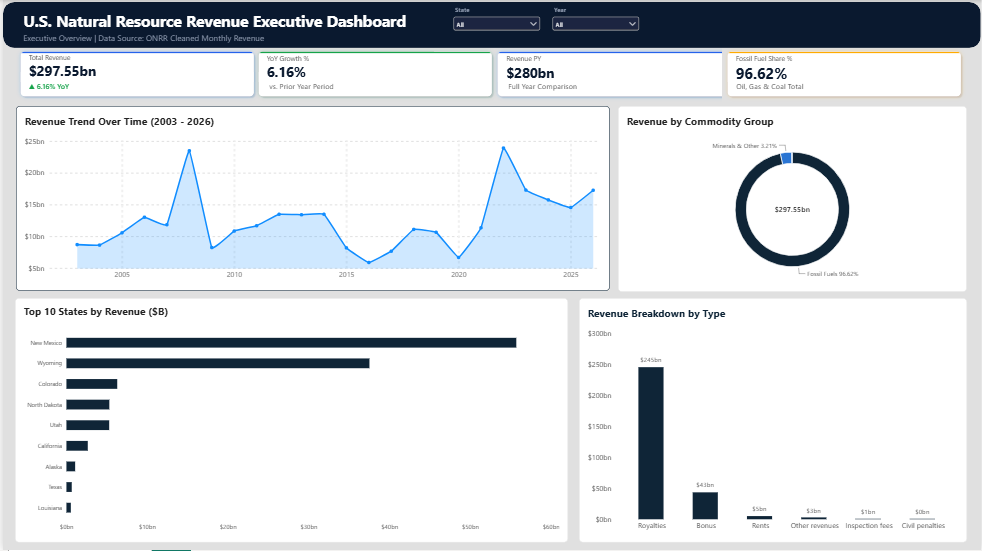

Layout of this report page (visuals, bound fields, positions):
{"tool":"powerbi","page":{"name":"Revenue Summary","canvas":[1920,1080],"ordinal":0},"visuals":[{"type":"cardVisual","fields":{"Data":["_Measures.Total Revenue"]},"box":[23.6,90.3,480,110],"z":0},{"type":"lineChart","title":"Revenue Trend Over Time (2003 - 2026)","fields":{"Category":["Dim_Date.Year"],"Y":["_Measures.Total Revenue"]},"box":[25.5,208.1,1166.4,363.3],"z":1000},{"type":"donutChart","title":"Revenue by Commodity Group","fields":{"Category":["cleaned_monthly_revenue.Commodity_Group"],"Y":["_Measures.Total Revenue"]},"box":[1207.6,208.1,684.7,365],"z":2000},{"type":"clusteredBarChart","title":"Top 10 States by Revenue ($B)","fields":{"Category":["cleaned_monthly_revenue.State"],"Y":["_Measures.Total Revenue"]},"box":[23.6,585.2,1086.5,479.5],"z":3000},{"type":"clusteredColumnChart","title":"Revenue Breakdown by Type","fields":{"Category":["cleaned_monthly_revenue.Revenue Type"],"Y":["_Measures.Total Revenue"]},"box":[1131.1,585.2,762.5,479.5],"z":4000},{"type":"cardVisual","fields":{"Data":["_Measures.YoY Growth %"]},"box":[490.9,90.3,480,110],"z":5000},{"type":"cardVisual","fields":{"Data":["_Measures.Revenue PY"]},"box":[960.2,90.3,480,110],"z":6000},{"type":"cardVisual","fields":{"Data":["_Measures.Fossil Fuel Share %"]},"box":[1411.9,90.3,480,110],"z":7000},{"type":"shape","title":"U.S. Natural Resource Revenue Executive Dashboard","box":[0,3.9,1920,90.3],"z":8000},{"type":"aiNarratives","title":"U.S. Natural Resource Revenue Executive Dashboard","box":[23.6,5.9,1820.3,80.5],"z":9000},{"type":"aiNarratives","box":[506.6,145.3,479.1,35.3],"z":10000},{"type":"aiNarratives","box":[975.9,145.3,481.1,35.3],"z":11000},{"type":"aiNarratives","box":[1423.6,145.3,481.1,35.3],"z":12000},{"type":"slicer","fields":{"Values":["cleaned_monthly_revenue.State"]},"box":[880,10,180,180],"z":13000},{"type":"slicer","fields":{"Values":["Dim_Date.Year"]},"box":[1075,10,180,180],"z":14000}]}

Visuals, with their boxes in screenshot pixels (x1, y1, x2, y2), scaled from the page's 1920x1080 canvas onto the 982x551 screenshot:
cardVisual - _Measures.Total Revenue: crop(12, 46, 258, 102)
"Revenue Trend Over Time (2003 - 2026)" lineChart: crop(13, 106, 610, 292)
"Revenue by Commodity Group" donutChart: crop(618, 106, 968, 292)
"Top 10 States by Revenue ($B)" clusteredBarChart: crop(12, 299, 568, 543)
"Revenue Breakdown by Type" clusteredColumnChart: crop(579, 299, 968, 543)
cardVisual - _Measures.YoY Growth %: crop(251, 46, 497, 102)
cardVisual - _Measures.Revenue PY: crop(491, 46, 737, 102)
cardVisual - _Measures.Fossil Fuel Share %: crop(722, 46, 968, 102)
"U.S. Natural Resource Revenue Executive Dashboard" shape: crop(0, 2, 981, 48)
"U.S. Natural Resource Revenue Executive Dashboard" aiNarratives: crop(12, 3, 943, 44)
aiNarratives: crop(259, 74, 504, 92)
aiNarratives: crop(499, 74, 745, 92)
aiNarratives: crop(728, 74, 974, 92)
slicer - cleaned_monthly_revenue.State: crop(450, 5, 542, 97)
slicer - Dim_Date.Year: crop(550, 5, 642, 97)
